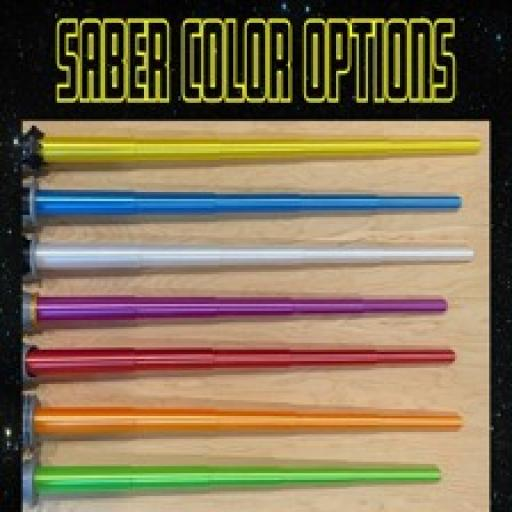lightsaber: (24, 133, 477, 197), (18, 339, 459, 394), (26, 450, 452, 504), (22, 236, 472, 282), (22, 296, 462, 341), (24, 398, 454, 436), (24, 195, 466, 229)
